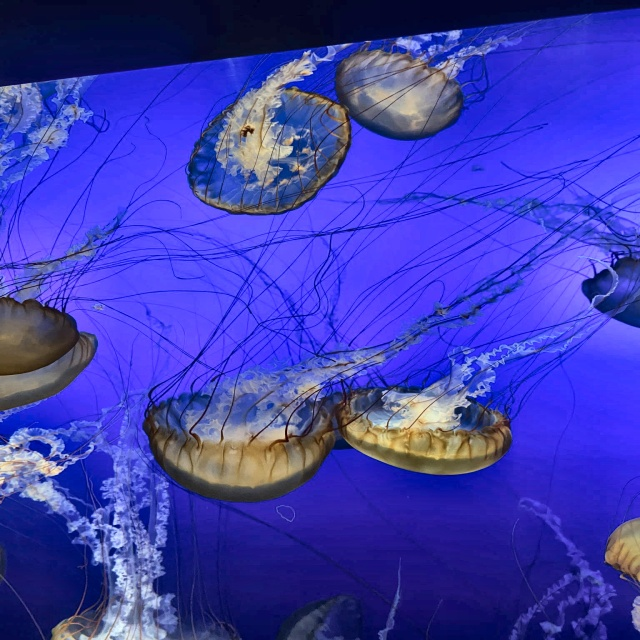jellyfish: (188, 74, 350, 210), (153, 394, 336, 501), (328, 384, 516, 482), (341, 52, 460, 140), (0, 294, 91, 405), (49, 596, 192, 639), (580, 251, 639, 332), (593, 508, 639, 580)
